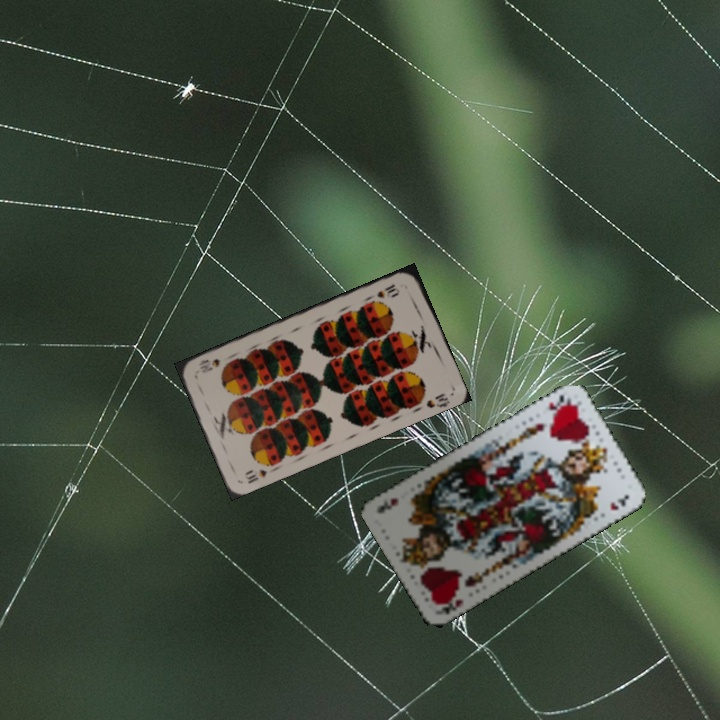HK: (433, 595, 465, 618), (544, 390, 573, 413)
S10: (373, 280, 402, 301), (241, 465, 269, 486)
